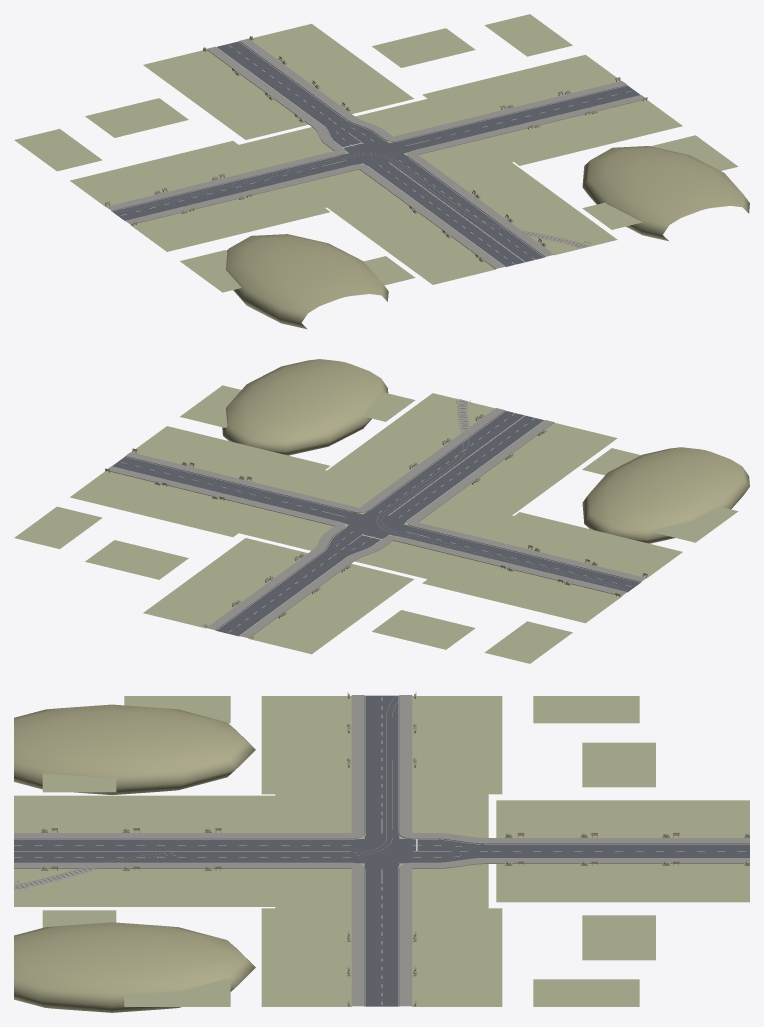
3 views of the same model, one above another, from view 1: azimuth 30°, elevation 25°; view 2: azimuth 150°, elevation 25°; view 3: azimuth 270°, elevation 25° (orthographic). The views are drawn at different scales.
Visible parts, largest first — view 1: static; view 2: static; view 3: static.
Part boxes in pixels (x1,y1,x2,y2): static: [14, 14, 749, 329]; static: [14, 359, 749, 663]; static: [14, 692, 749, 1012].
Size of what is drawn, in the model's own units: 180 by 14.08 by 180.
